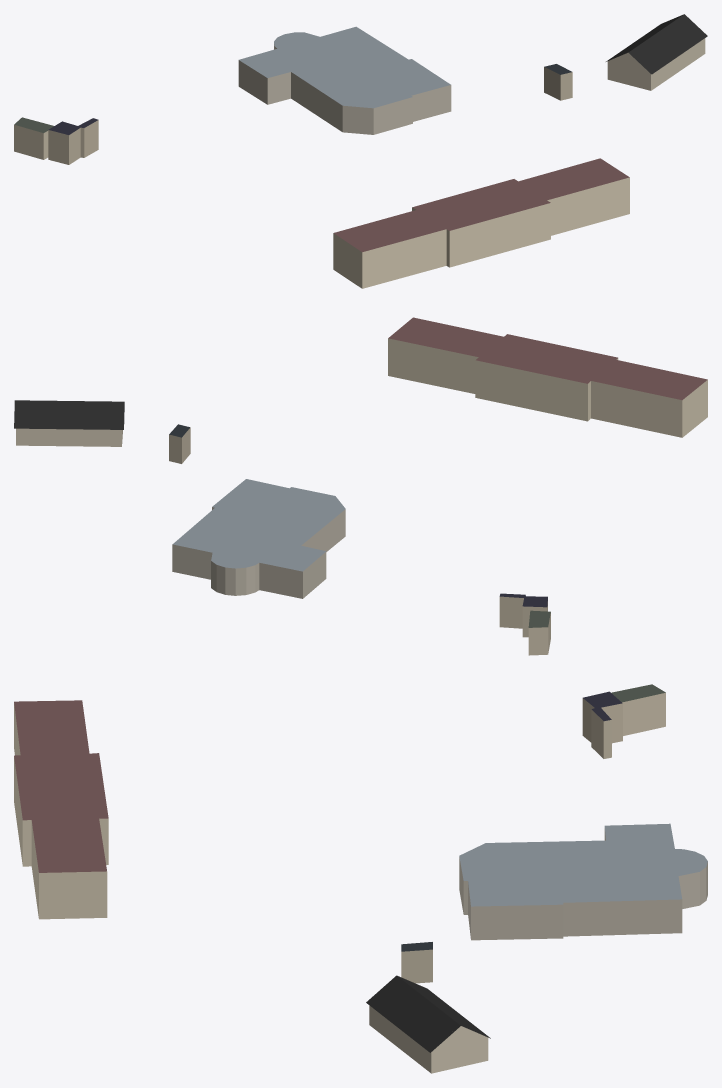
The picture shows the model from 3 angles, top to bottom: view 1: azimuth 30°, elevation 25°; view 2: azimuth 150°, elevation 25°; view 3: azimuth 270°, elevation 25°; orthographic projection. The views are drawn at different scales.
Parts seen in each view (by area): view 1: tuile; view 2: tuile; view 3: tuile.
Part boxes in pixels (bbox=[...]): tuile: bbox=[14, 14, 707, 288]; tuile: bbox=[14, 317, 707, 655]; tuile: bbox=[14, 684, 707, 1073].
Size of the model in its own units: 121 by 11.51 by 94.61.
